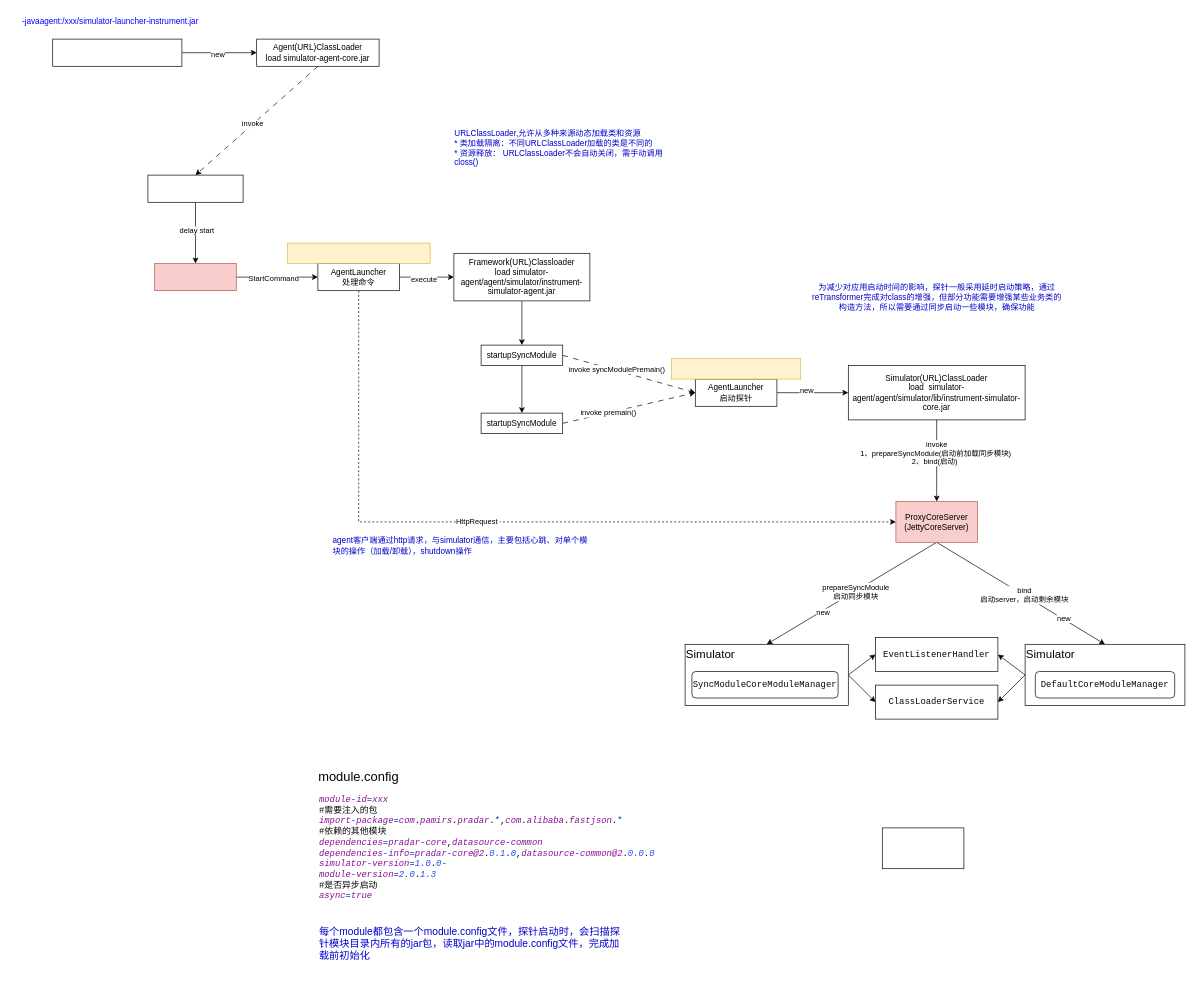
Image size: 1197x989. Some labels were removed from this diagram. Here are the shapes that lost their labels. From the top down, the box of each, then its label:
(52, 38, 182, 66): simulator-launcher-instrument.jar premain
(147, 174, 243, 202): CoreLauncher 读取配置文件并初始化
(287, 242, 430, 264): com.shulie.instrument.simulator .agent.core
(154, 263, 236, 291): AgentScheduler 定时拉取及调度命令
(671, 358, 801, 379): com.shulie.instrument.simulator .agent
(882, 827, 964, 869): ModuleLibLoader
